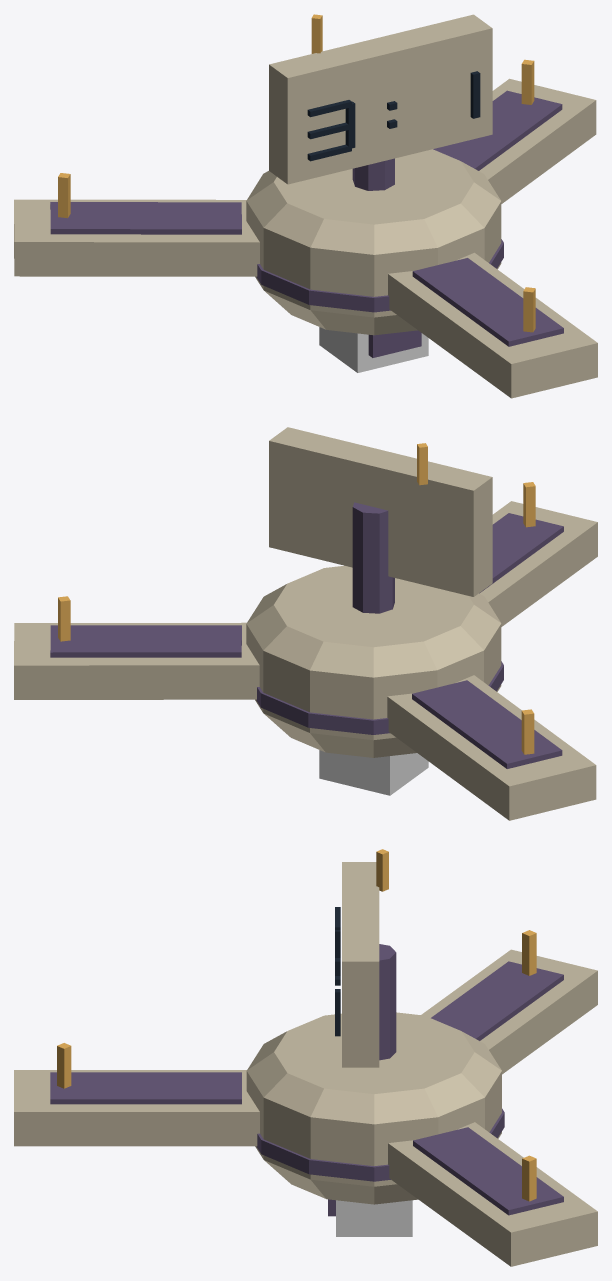
The model's file is space_port_3to1.glb.
The picture shows the model from 3 angles, top to bottom: view 1: azimuth 30°, elevation 25°; view 2: azimuth 150°, elevation 25°; view 3: azimuth 270°, elevation 25°; orthographic projection.
Visible parts, largest first — view 1: FixedDetails, WoodBody, BrassTrim; view 2: FixedDetails, WoodBody, BrassTrim; view 3: FixedDetails, WoodBody, BrassTrim.
Boxes of the visible parts, <box> form: FixedDetails: <box>14,14,597,398</box>; WoodBody: <box>319,327,428,372</box>; BrassTrim: <box>58,14,535,332</box>; FixedDetails: <box>14,427,597,820</box>; WoodBody: <box>319,750,428,795</box>; BrassTrim: <box>58,443,535,754</box>; FixedDetails: <box>14,862,597,1266</box>; WoodBody: <box>336,1200,412,1236</box>; BrassTrim: <box>57,849,536,1201</box>.
Size of the model in its own units: 0.78 by 0.44 by 0.68.
